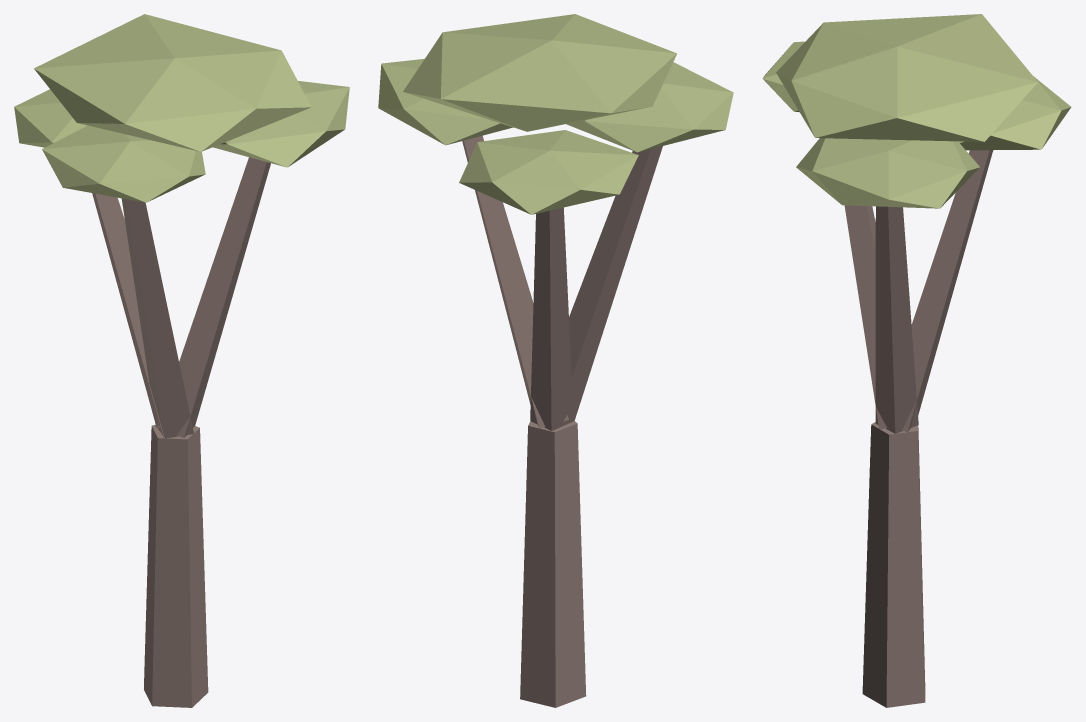
Rendered from arv_acacia_6_sem_textura.glb.
3 views of the same model, side by side, from view 1: azimuth 30°, elevation 25°; view 2: azimuth 150°, elevation 25°; view 3: azimuth 270°, elevation 25° (orthographic). The views are drawn at different scales.
Parts seen in each view (by area): view 1: arv_acacia_6; view 2: arv_acacia_6; view 3: arv_acacia_6.
Boxes of the visible parts, x1,y1,x2,y2 form: arv_acacia_6: (14,14,349,707); arv_acacia_6: (378,14,733,707); arv_acacia_6: (762,14,1071,707).
Bounding box in the file's own units: 0.844 × 1.65 × 0.7137.
